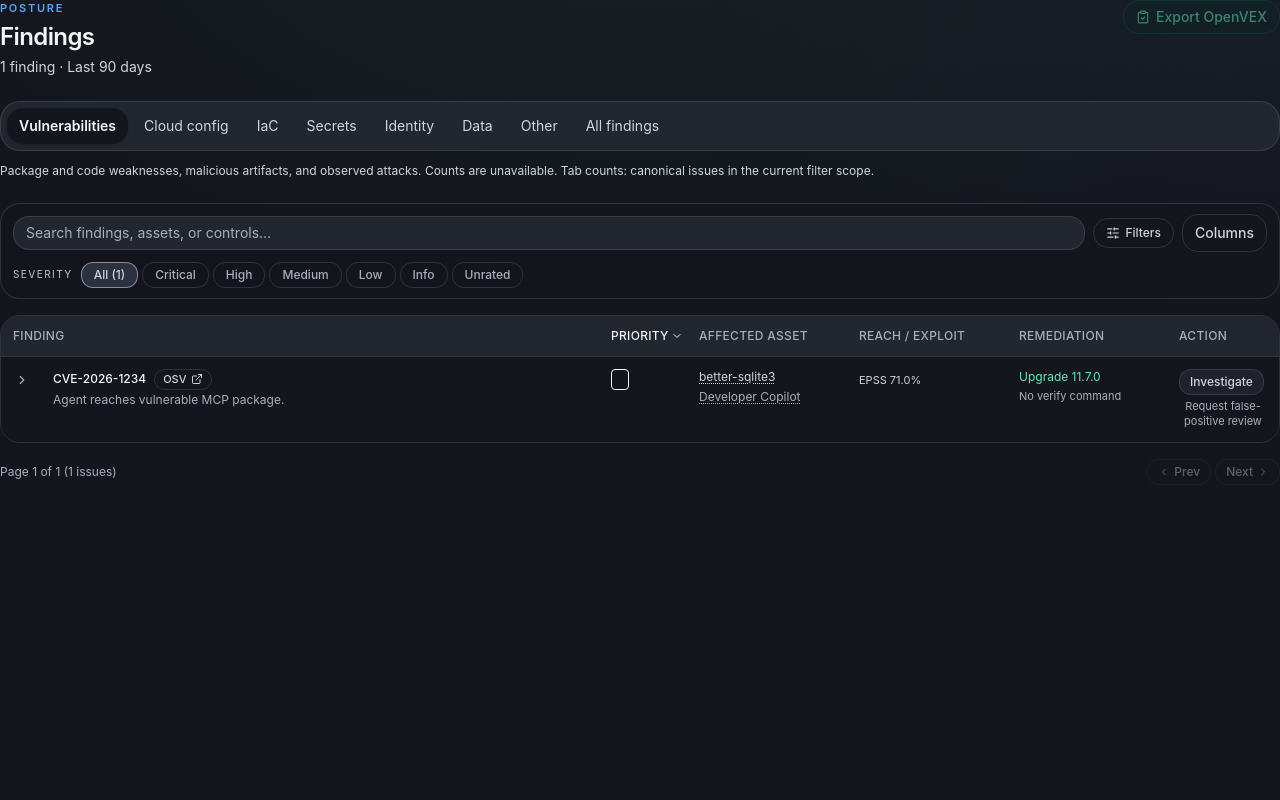
FindingsPage › tucks advanced filters into a Filters (n) popover with removable active chips
The width and height of the screenshot is (1280, 800).
Check: the button "CVE-2026-1234" is shown, box x1=53 y1=371 x2=146 y2=387
Open the popover and pick a domain facet.
Click the button with test id "findings-filters-toggle": [1133, 232] box x1=1092 y1=218 x2=1174 y2=248
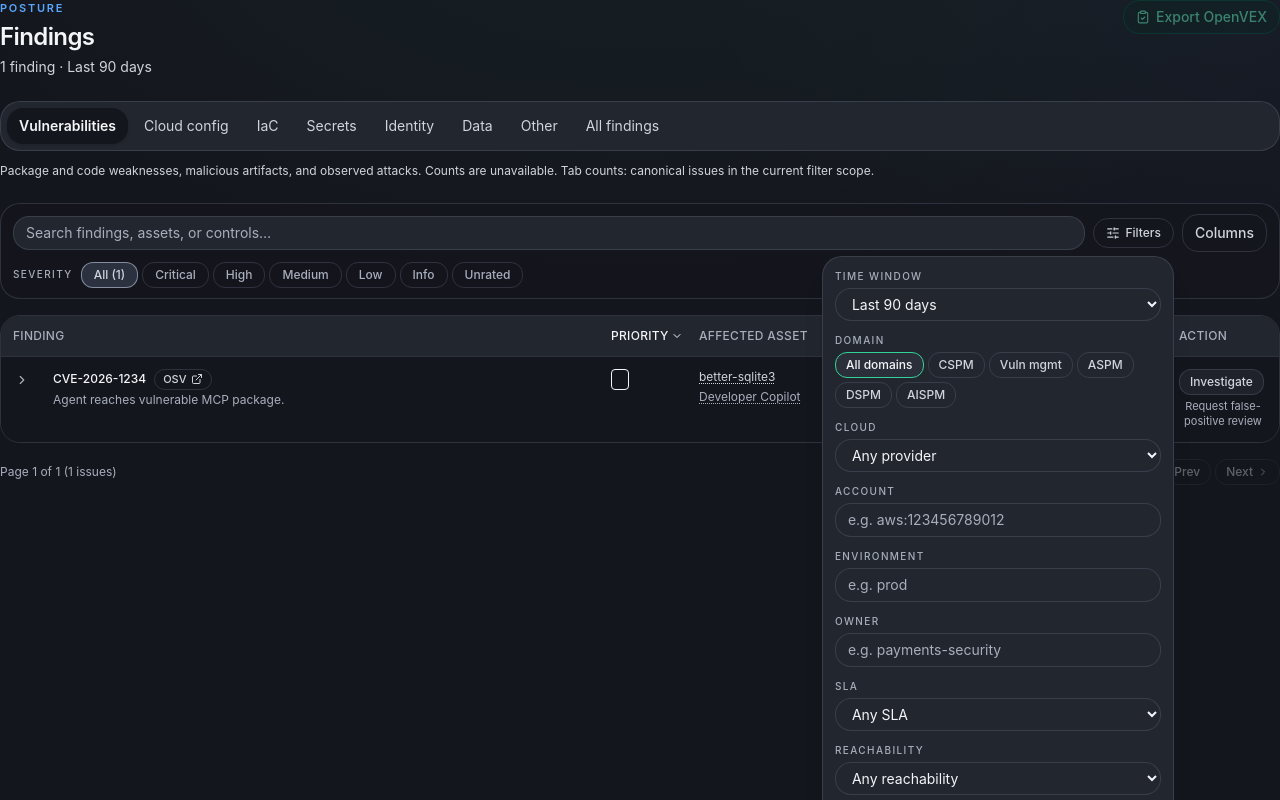
Click the button "ASPM": [1105, 364] box x1=1077 y1=352 x2=1134 y2=378
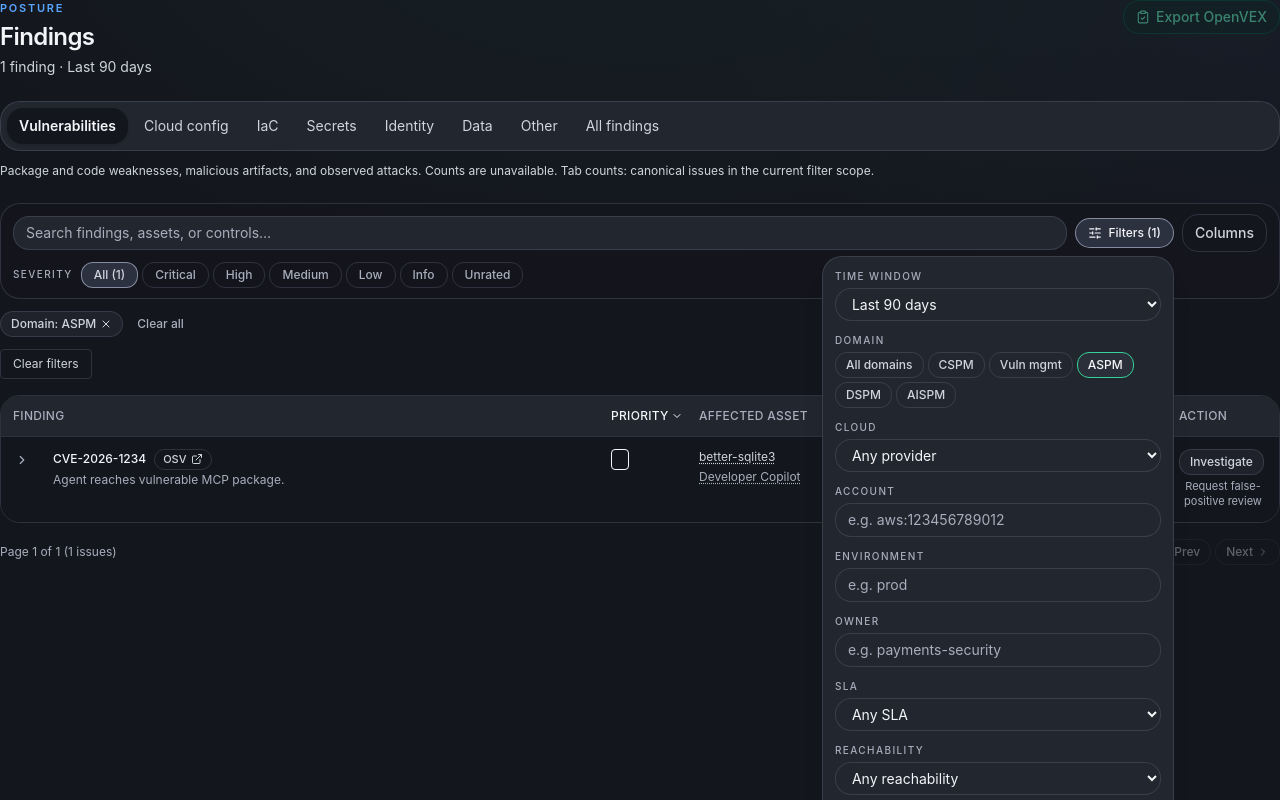
Check: the button with test id "findings-filters-toggle" reads "Filters (1)", box x1=1076 y1=218 x2=1174 y2=248
Check: the button with test id "findings-chip-domain" reads "Domain: ASPM"
Removing the chip clears the filter (count returns to zero, chip gone).
Click the button with test id "findings-chip-domain": [62, 324] box x1=0 y1=310 x2=123 y2=336
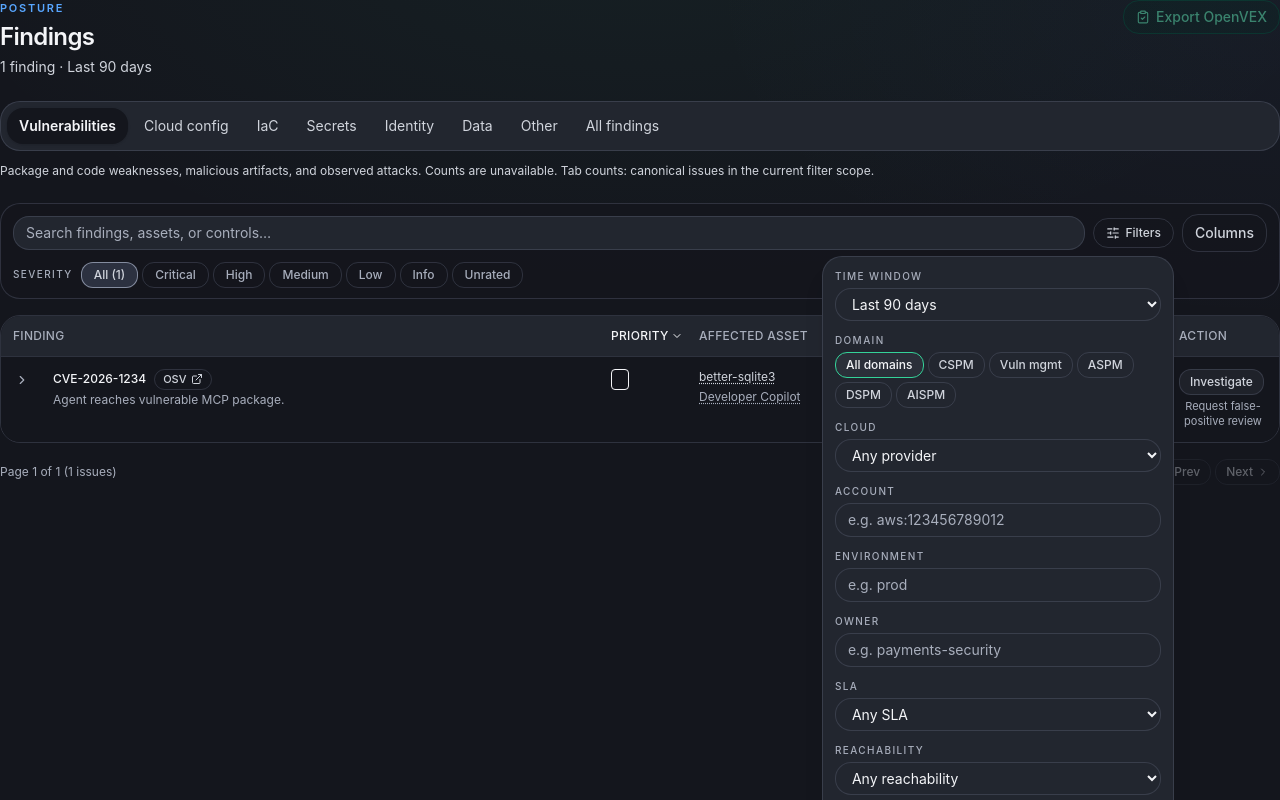
Check: the button with test id "findings-filters-toggle" does not show "(1)", box x1=1092 y1=218 x2=1174 y2=248
Check: the button with test id "findings-chip-domain" is gone
